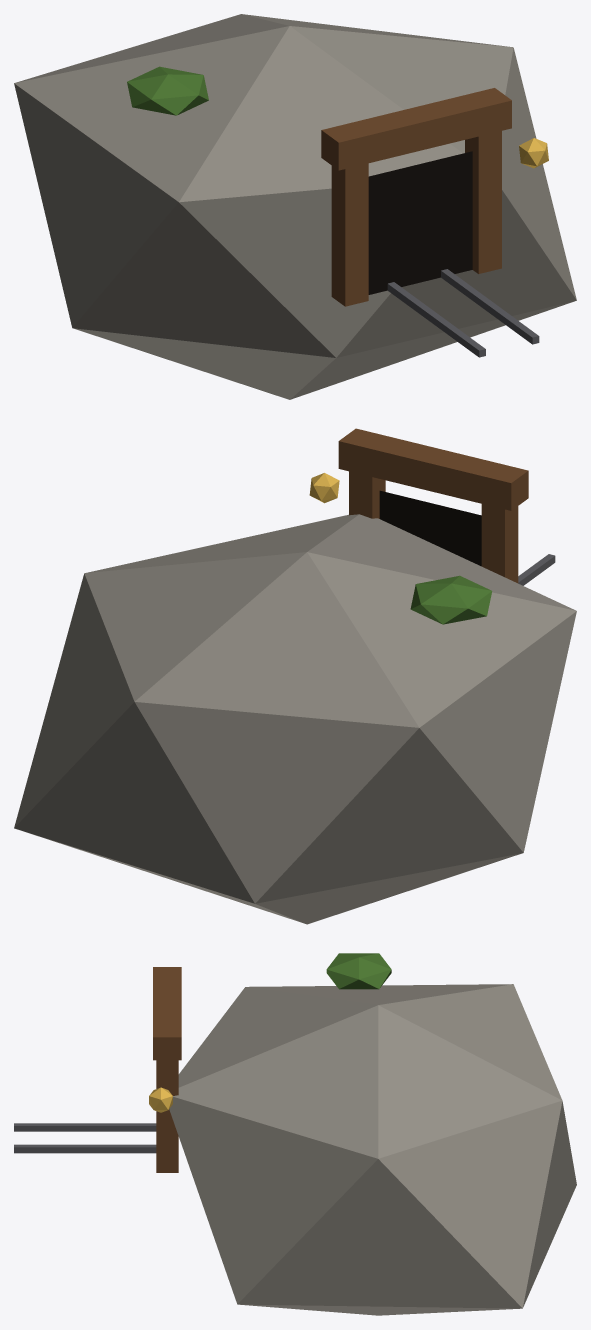
Rendered from mine.glb.
The picture shows the model from 3 angles, top to bottom: view 1: azimuth 30°, elevation 25°; view 2: azimuth 150°, elevation 25°; view 3: azimuth 270°, elevation 25°; orthographic projection. The views are drawn at different scales.
Visible parts, largest first — view 1: prop_mine; view 2: prop_mine; view 3: prop_mine.
Part boxes in pixels (x1,y1,x2,y2): prop_mine: [14, 14, 576, 399]; prop_mine: [14, 428, 576, 924]; prop_mine: [14, 953, 576, 1315].
Size of the model in its own units: 0.6621 by 0.5414 by 0.8809.
